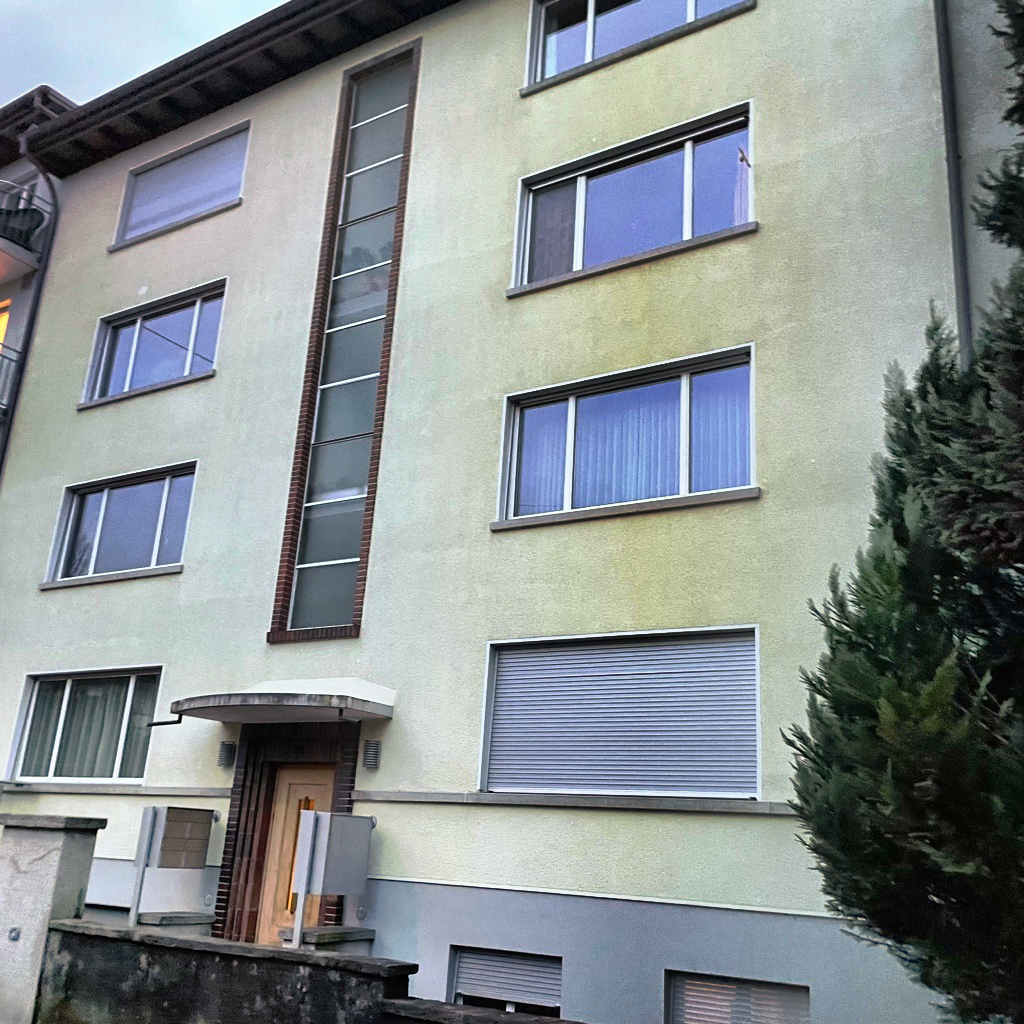glass panel: (573, 379, 679, 506), (123, 131, 247, 238), (583, 149, 684, 266), (690, 365, 749, 491), (54, 677, 128, 777), (94, 480, 164, 573), (693, 129, 749, 236), (515, 401, 567, 514), (130, 304, 194, 387), (594, 0, 686, 57), (527, 179, 576, 281), (291, 562, 357, 628), (297, 499, 364, 564), (306, 437, 371, 502), (21, 680, 64, 776), (314, 377, 377, 441), (118, 675, 157, 778), (321, 319, 383, 383), (328, 264, 389, 328), (334, 211, 394, 274), (342, 158, 401, 221), (352, 60, 410, 123), (347, 109, 405, 171), (61, 492, 101, 577), (543, 0, 586, 77), (156, 475, 193, 564), (96, 322, 136, 396), (191, 296, 222, 373), (695, 0, 737, 17)
